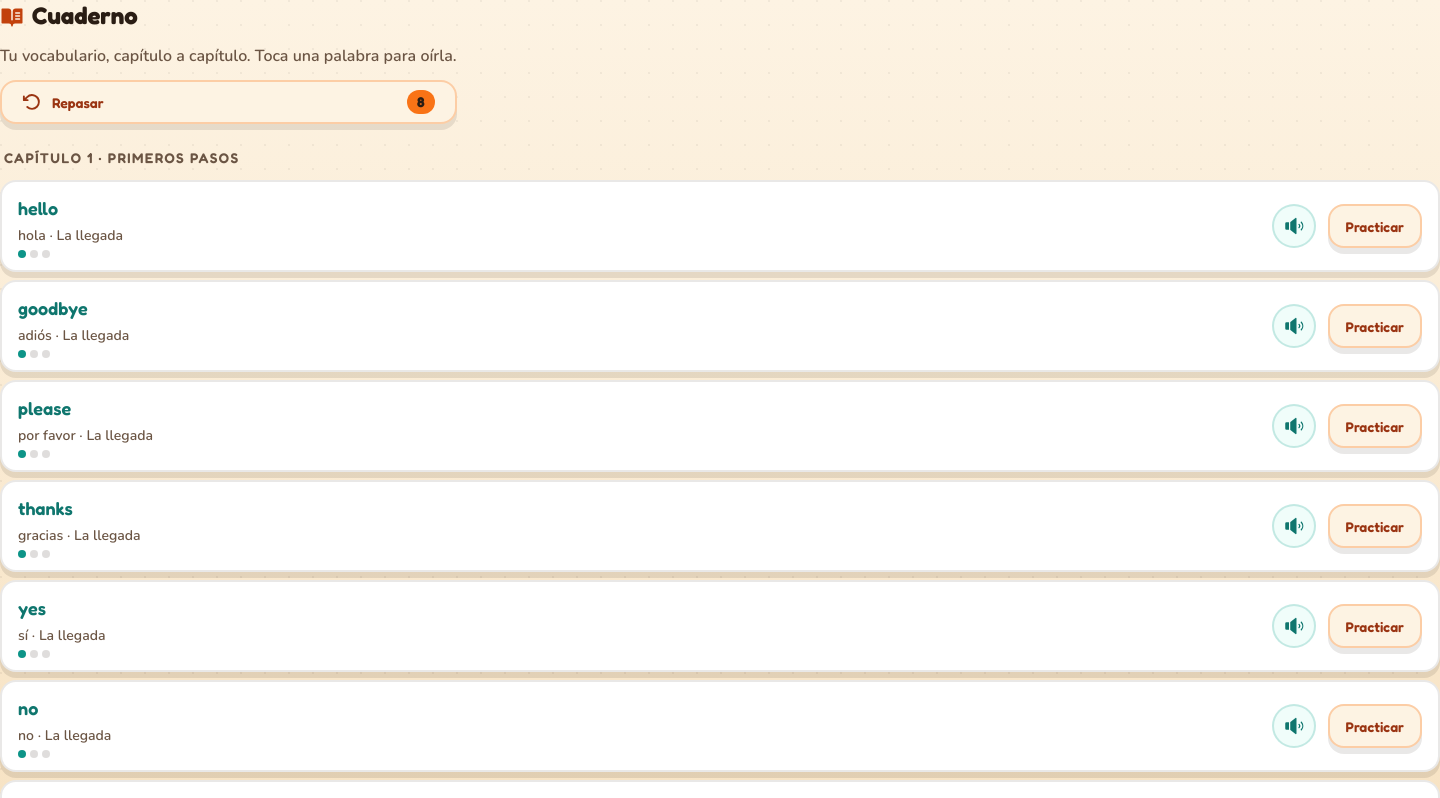
Scenario: Notebook practice › opens the chosen word challenge and hides the list
The image size is (1440, 798).
Click the button with aria-label "Practicar hello": (1375, 226) [1328,204,1422,248]
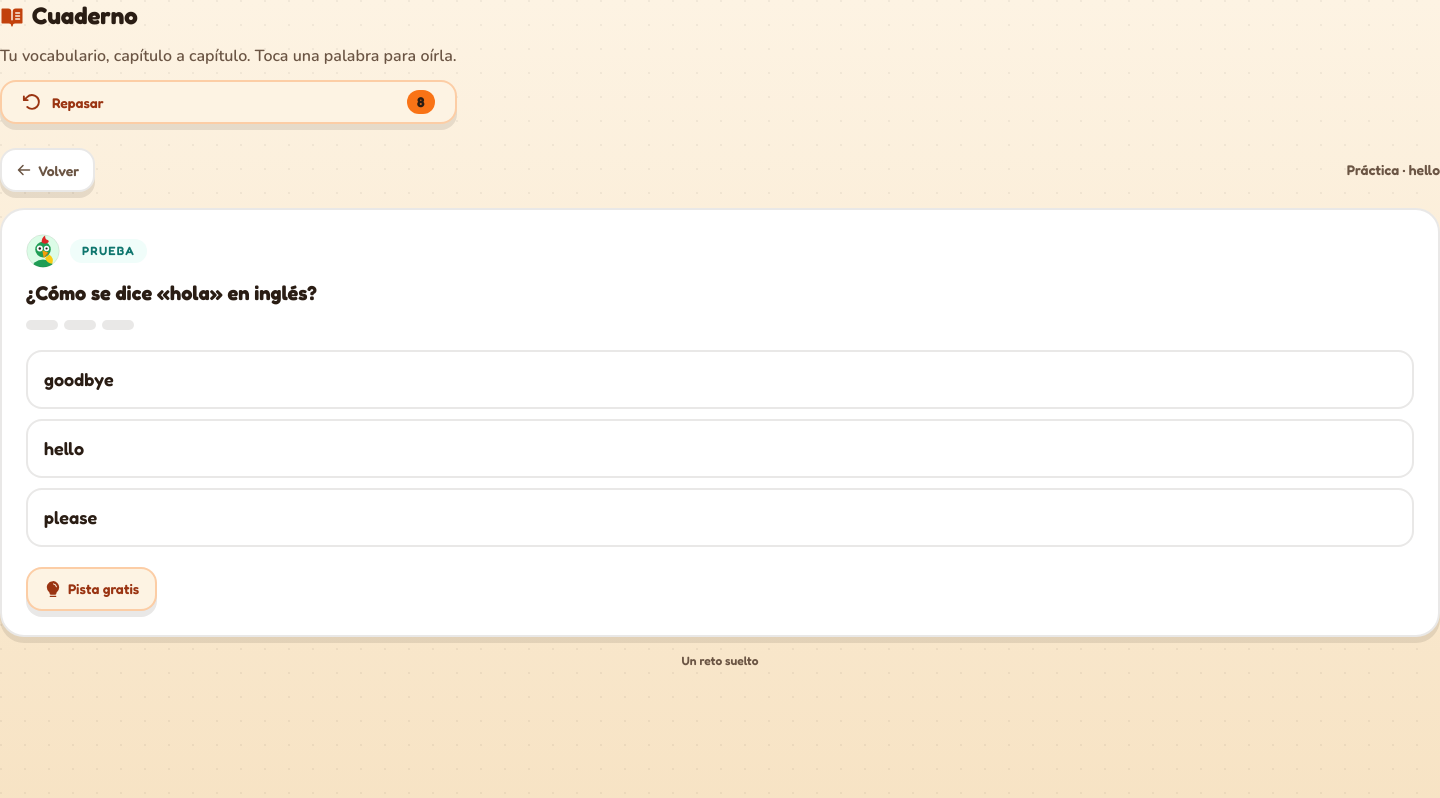
Now the text "Práctica · hello" is shown, box [1347,160,1439,180]
Now the heading "¿Cómo se dice «hola» en inglés?" is shown, box [26,281,317,305]
Now the text "hola · La llegada" is gone
